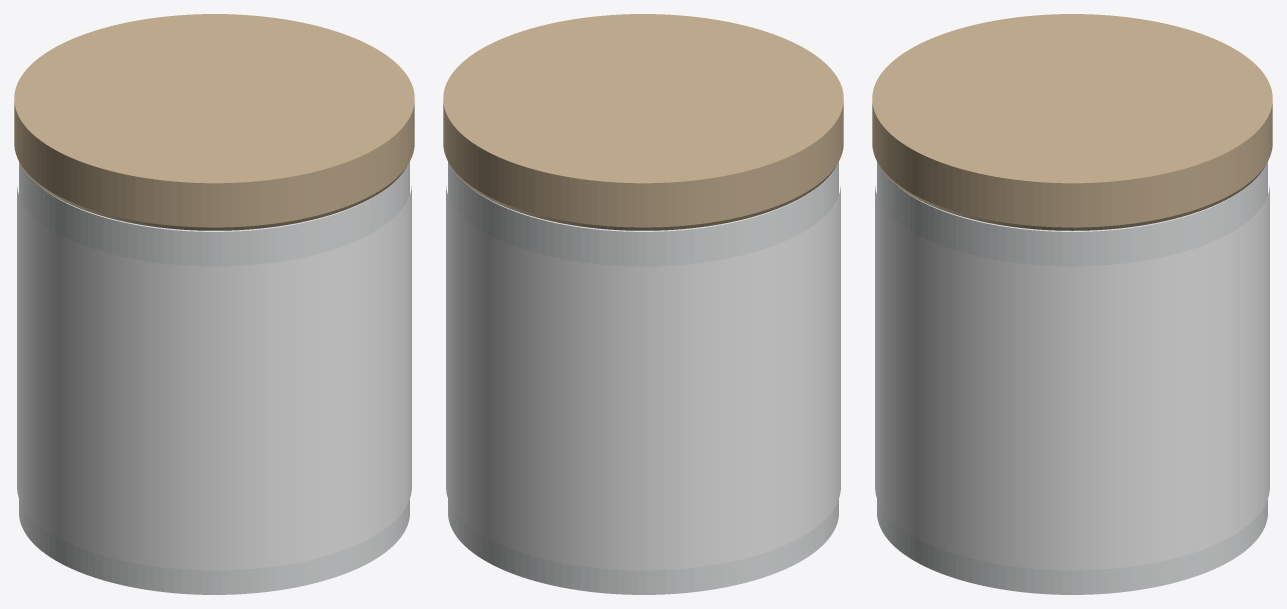
Rendered from product-customizable.glb.
The picture shows the model from 3 angles, left to right: view 1: azimuth 30°, elevation 25°; view 2: azimuth 150°, elevation 25°; view 3: azimuth 270°, elevation 25°; orthographic projection.
Parts seen in each view (by area): view 1: LABEL_PRINT, LID, BODY; view 2: LABEL_PRINT, LID, BODY; view 3: LABEL_PRINT, LID, BODY.
Boxes of the visible parts, <box> form: LABEL_PRINT: <box>17,186,411,570</box>; LID: <box>14,14,414,230</box>; BODY: <box>19,162,409,594</box>; LABEL_PRINT: <box>446,186,840,570</box>; LID: <box>443,14,843,230</box>; BODY: <box>448,162,838,594</box>; LABEL_PRINT: <box>875,186,1269,570</box>; LID: <box>872,14,1272,230</box>; BODY: <box>877,162,1267,594</box>.
Bounding box in the file's own units: 8.6 × 10 × 8.6.
